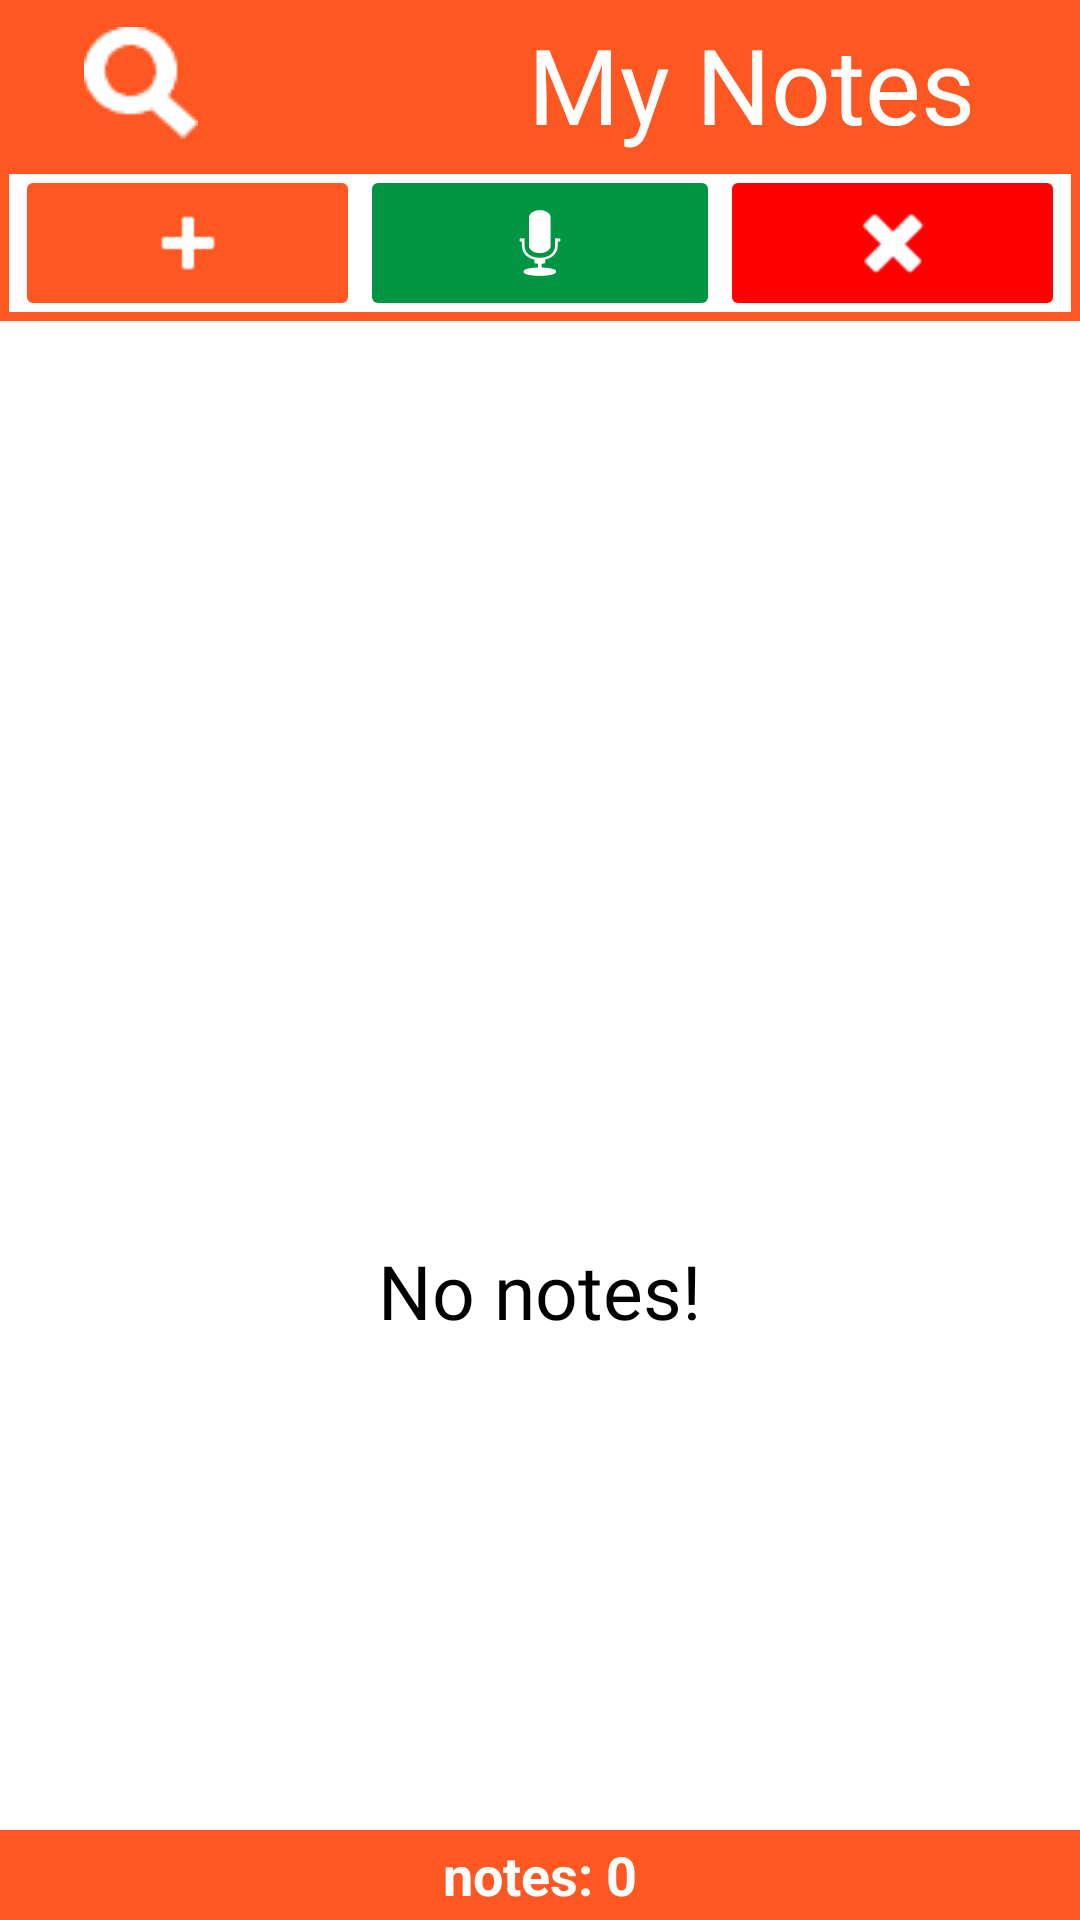

Named icons in this screenshot (1080 x 1920) and their bounding boxes, [x1, y1, x2, y2]:
create a note: [27, 183, 348, 303]
delete: [732, 183, 1053, 303]
speak now: [372, 183, 708, 303]
